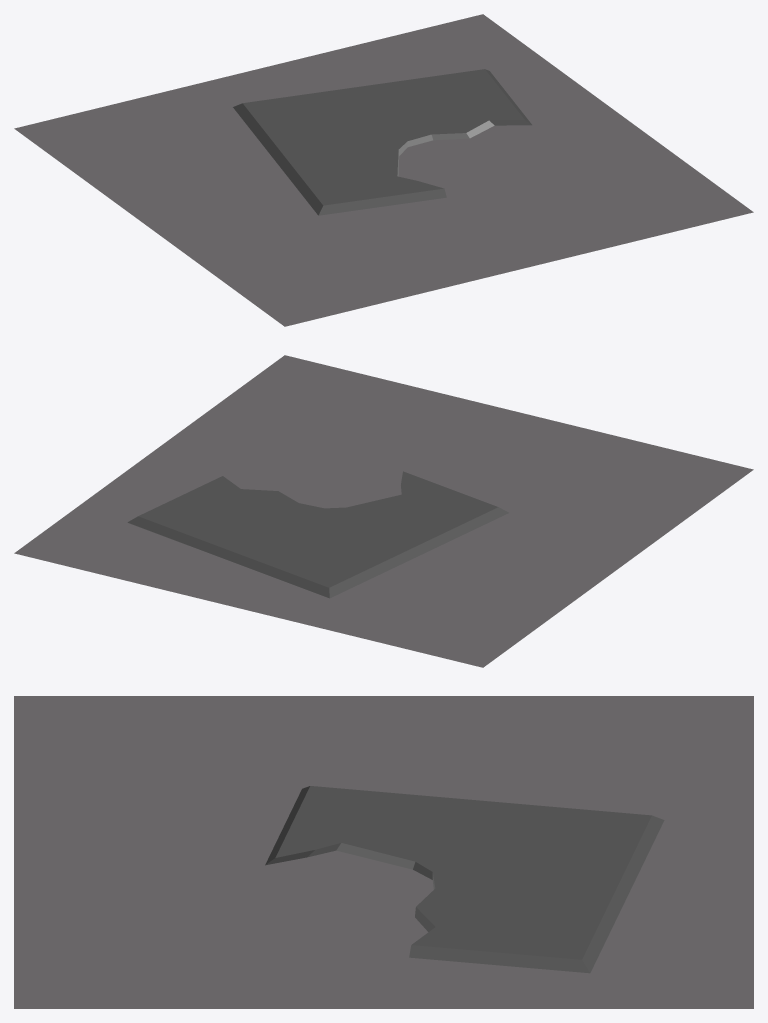
File: Floor_4.fbx
The picture shows the model from 3 angles, top to bottom: view 1: azimuth 30°, elevation 25°; view 2: azimuth 150°, elevation 25°; view 3: azimuth 270°, elevation 25°; orthographic projection. The views are drawn at different scales.
Visible parts, largest first — view 1: Floor_4; view 2: Floor_4; view 3: Floor_4.
Boxes of the visible parts, x1=… form: Floor_4: x1=14, y1=14, x2=753, y2=326; Floor_4: x1=14, y1=355, x2=753, y2=667; Floor_4: x1=14, y1=696, x2=753, y2=1008.
Size of the model in its own units: 200 by 2.45 by 200.
